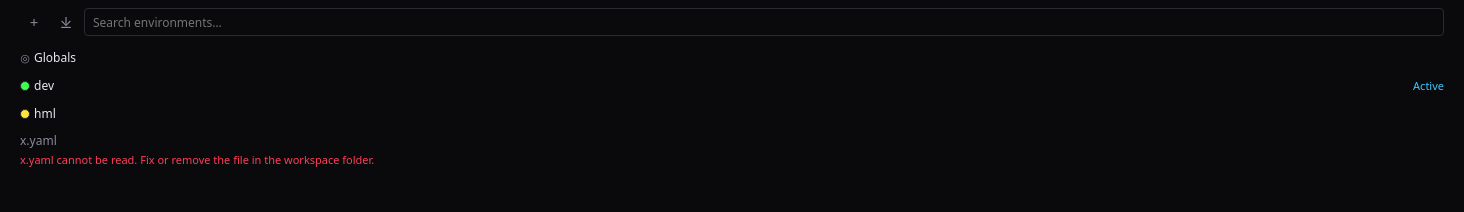
Scenario: EnvironmentsView › creates an environment and opens it in a pinned tab
The image size is (1464, 212).
Click the button named "New Environment" at (34, 22), box [20,8,48,36]
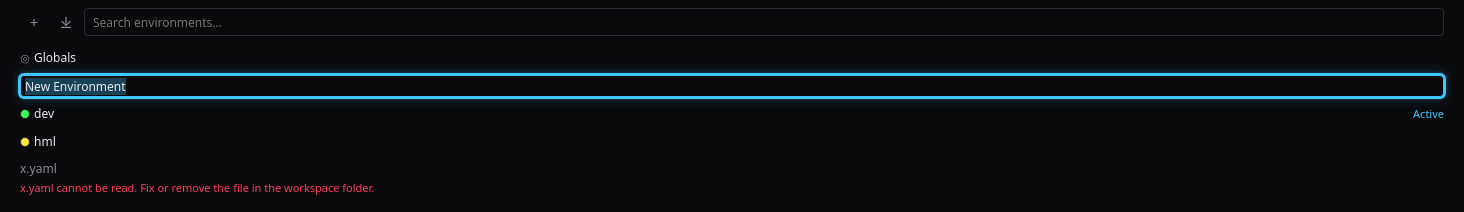
Check: the field named "Name" holds "New Environment"
Replace the text in the field named "Name" with "qa" at (732, 86), box [20,75,1444,97]
Then press Enter
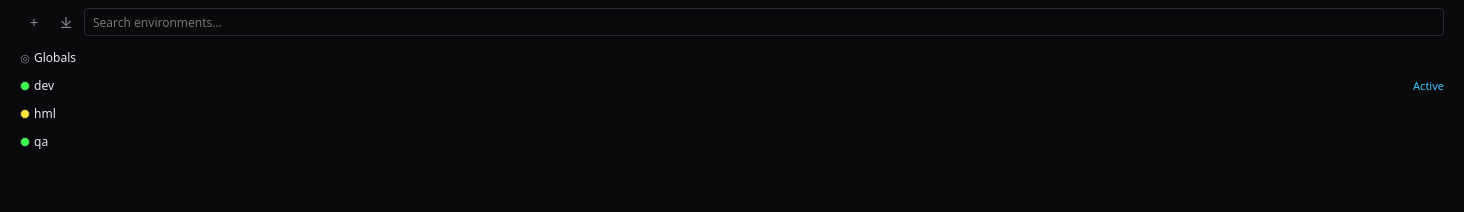
Check: the field labelled "Name" is gone
